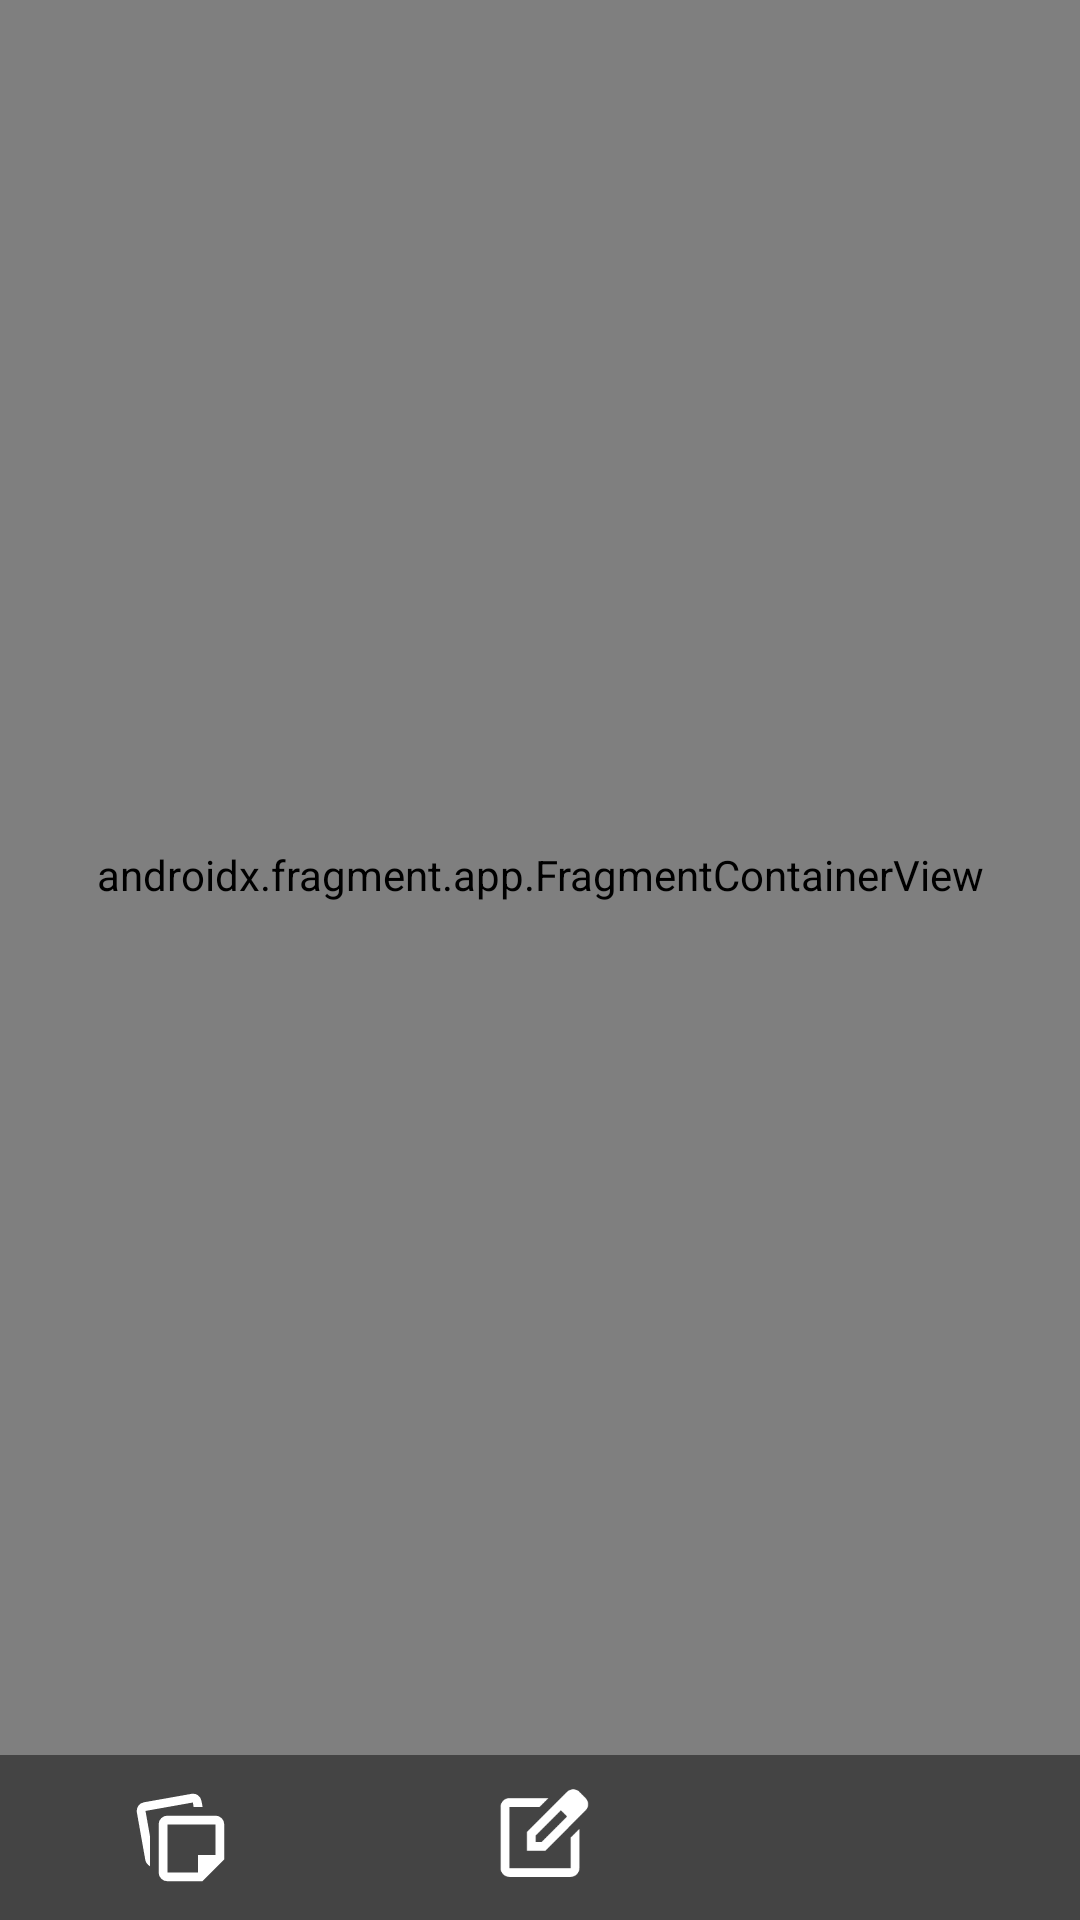

Point at icon controls on the screen. Image size 1080x1920, points as point (x, y).
write: point (544, 1833)
